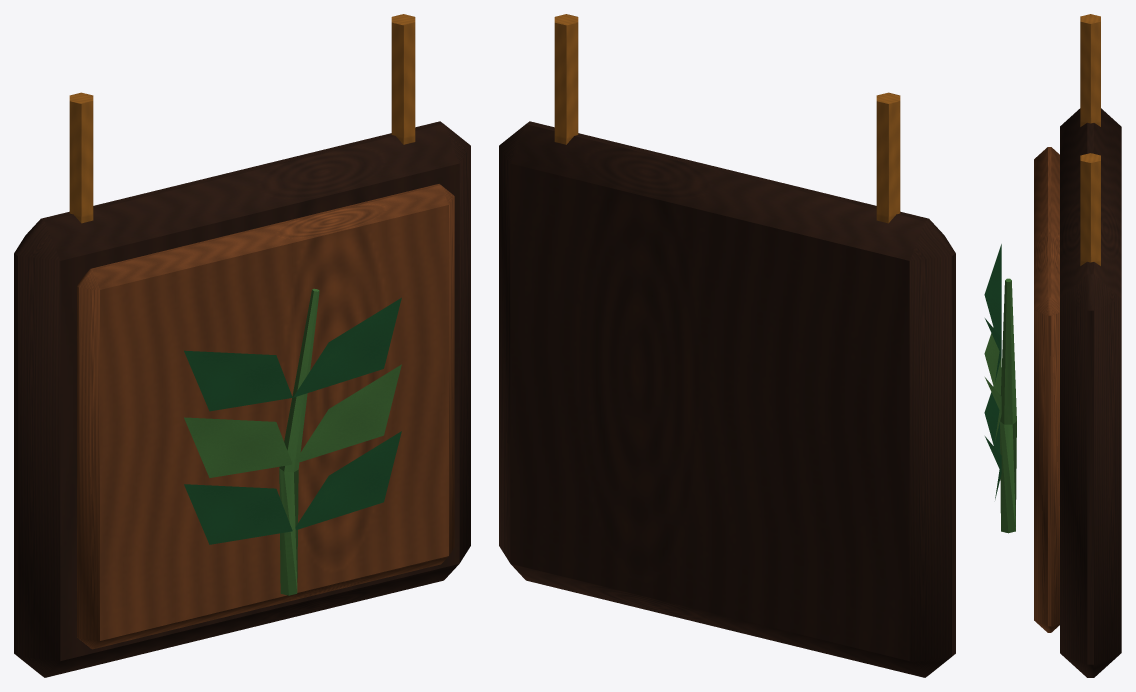
The model's file is Placa_de_ervas_LOD0.fbx.
The picture shows the model from 3 angles, left to right: view 1: azimuth 30°, elevation 25°; view 2: azimuth 150°, elevation 25°; view 3: azimuth 270°, elevation 25°; orthographic projection. The views are drawn at different scales.
Parts seen in each view (by area): view 1: Placa_de_ervas_LOD0; view 2: Placa_de_ervas_LOD0; view 3: Placa_de_ervas_LOD0.
Part boxes in pixels (x1,y1,x2,y2): Placa_de_ervas_LOD0: (14, 14, 470, 677); Placa_de_ervas_LOD0: (499, 14, 955, 677); Placa_de_ervas_LOD0: (984, 14, 1121, 677).
Bounding box in the file's own units: 135 × 162 × 40.
Materials: 1 (1 with a texture image).
